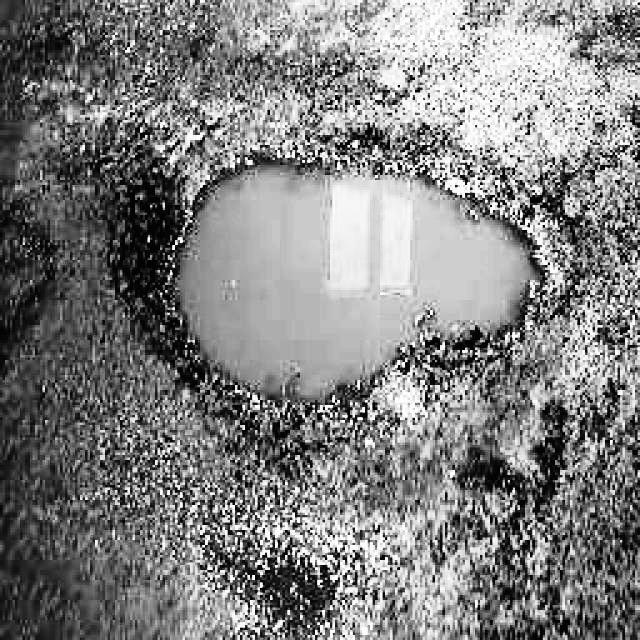Pothole: (113, 114, 584, 440)
